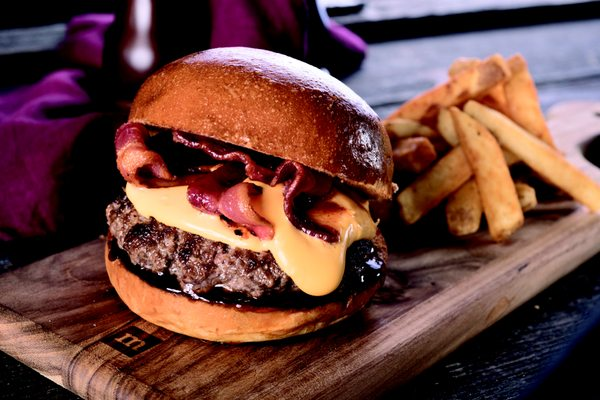soup: (102, 43, 397, 345)
